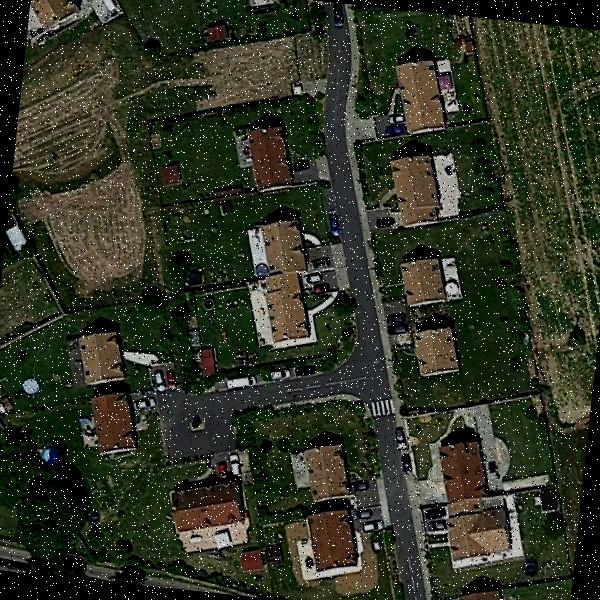Buildings: (440, 437, 517, 559), (250, 220, 318, 350), (387, 153, 448, 227), (390, 61, 450, 136), (166, 485, 249, 537), (292, 440, 350, 506), (72, 327, 128, 385), (398, 250, 448, 314), (304, 520, 360, 575), (246, 126, 294, 189), (407, 330, 463, 382), (92, 398, 134, 450), (28, 0, 72, 41), (451, 584, 507, 600)
